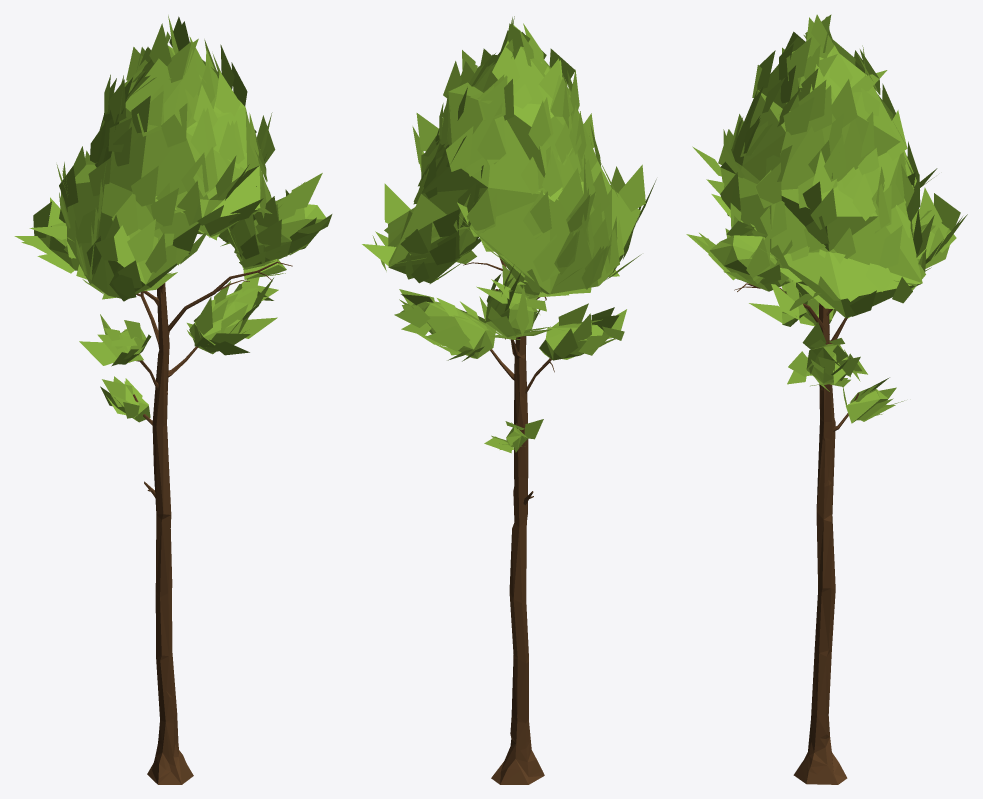
File: SM_Tree_Birch_Mature_A.fbx
3 views of the same model, side by side, from view 1: azimuth 30°, elevation 25°; view 2: azimuth 150°, elevation 25°; view 3: azimuth 270°, elevation 25° (orthographic).
Parts seen in each view (by area): view 1: tree-birch-mature-a; view 2: tree-birch-mature-a; view 3: tree-birch-mature-a.
Boxes of the visible parts, left/top/right/bottom form: tree-birch-mature-a: left=14, top=15, right=332, bottom=784; tree-birch-mature-a: left=362, top=16, right=656, bottom=784; tree-birch-mature-a: left=686, top=14, right=967, bottom=784.
Bounding box in the file's own units: 3.85 × 11.57 × 3.88.
